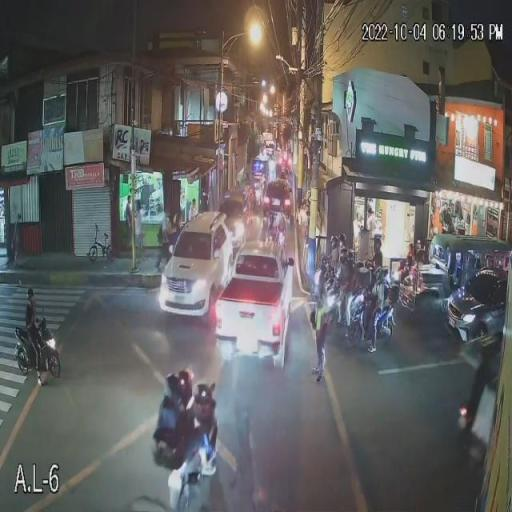helmet: (166, 377, 180, 408), (179, 371, 194, 398), (372, 237, 383, 255), (27, 291, 35, 308), (375, 271, 384, 286), (349, 251, 358, 264), (340, 250, 348, 263), (330, 236, 336, 250), (339, 234, 346, 246)
motorcycle: (13, 320, 62, 380), (344, 298, 397, 348)
rider: (181, 369, 206, 450), (25, 290, 41, 382), (372, 271, 388, 350), (164, 379, 178, 464), (350, 248, 359, 302), (340, 250, 349, 300), (373, 237, 382, 273), (338, 231, 347, 262), (329, 236, 337, 270)
